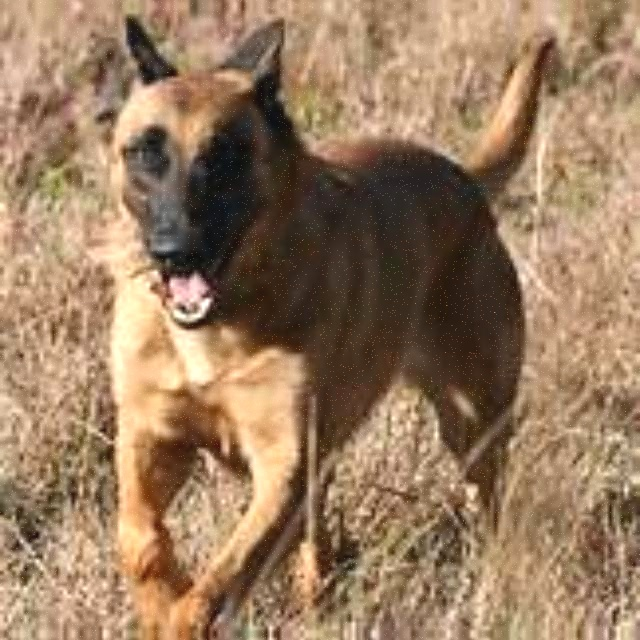dog: (78, 21, 580, 618)
